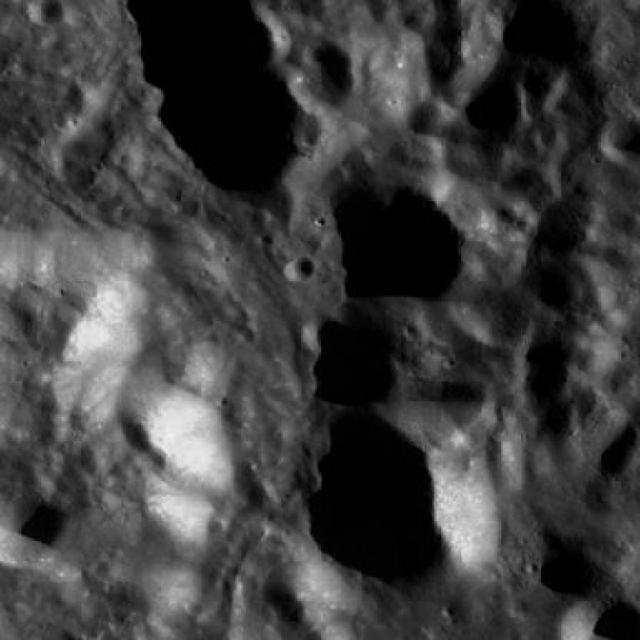crater: (0, 488, 65, 568), (282, 48, 353, 108), (564, 410, 634, 470), (55, 114, 120, 170), (303, 318, 343, 353), (27, 0, 64, 26), (286, 256, 314, 281), (507, 597, 530, 617), (302, 46, 324, 66), (89, 558, 111, 577), (515, 212, 537, 230), (498, 202, 518, 218)
